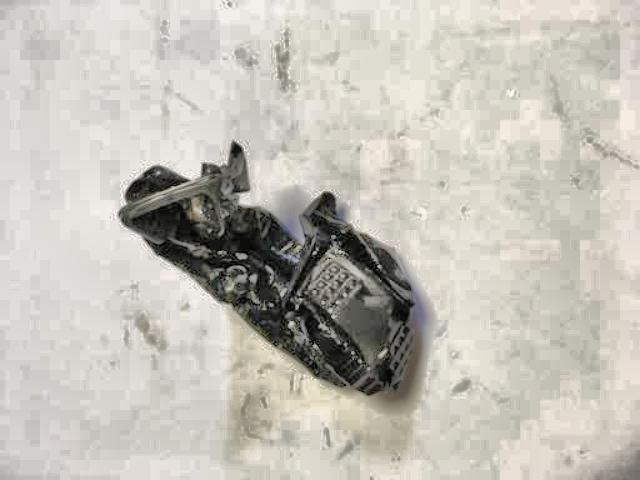Plastic: (61, 118, 493, 432)
